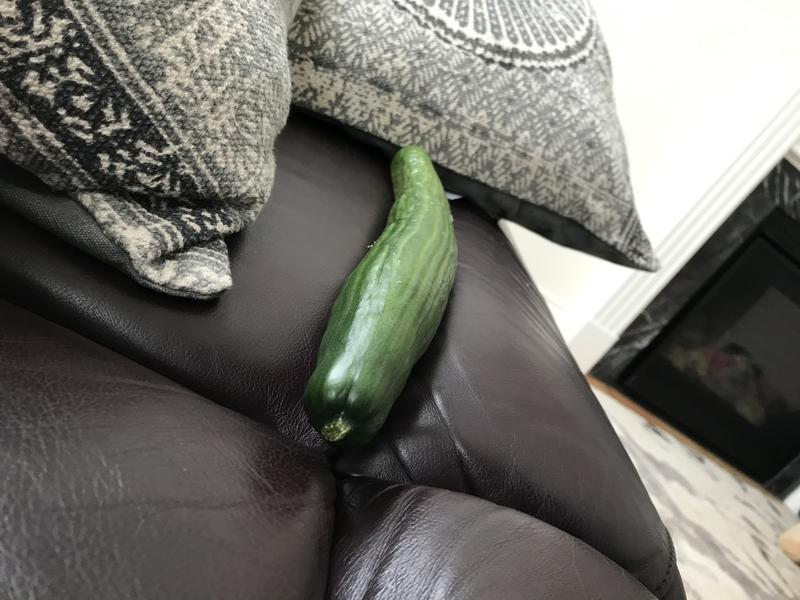cucumber: (296, 137, 469, 456)
